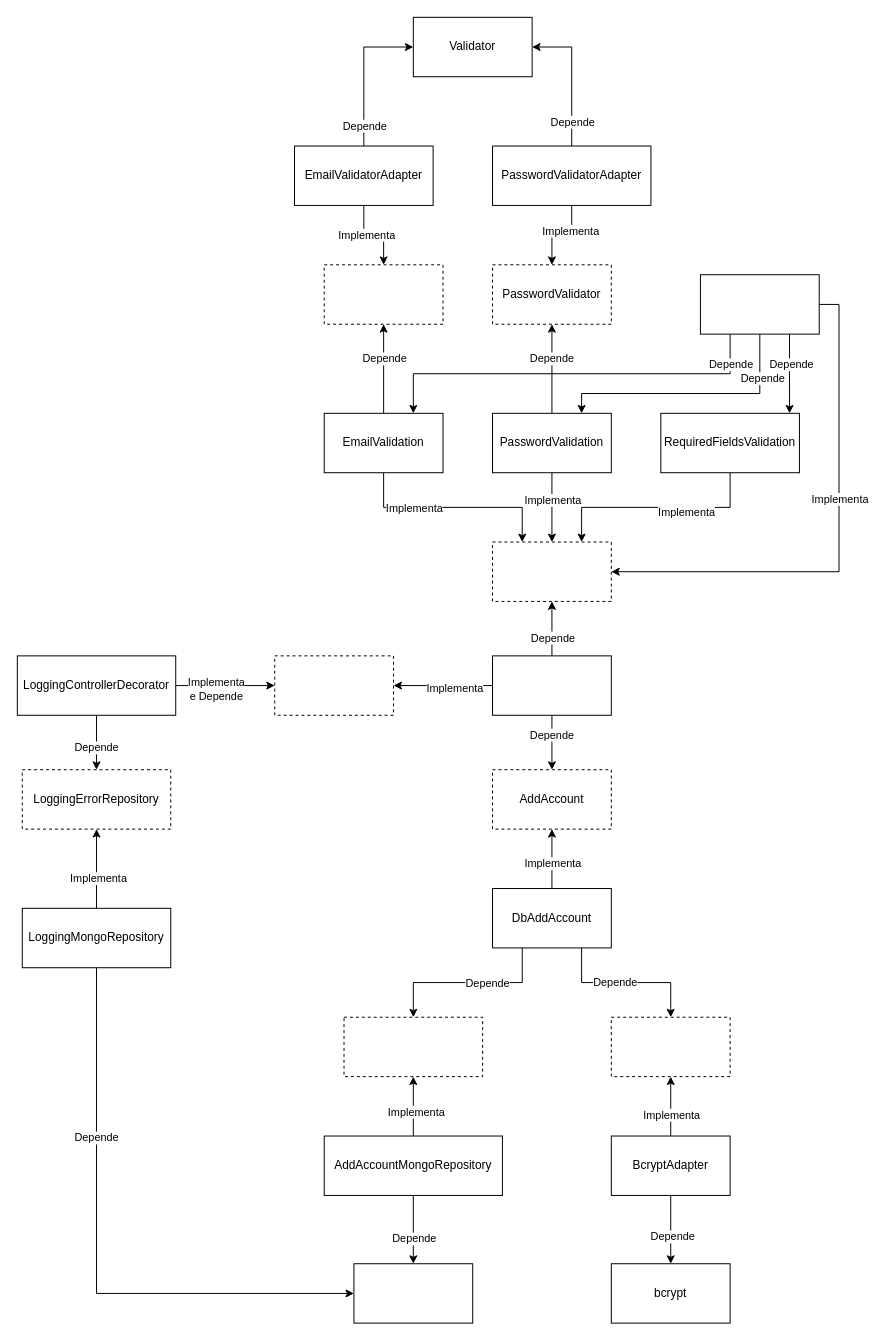
The diagram is 885 pixels wide and 1340 high, and some of its shapes have lost their labels. The shapes that lost their labels are listed below. From the top down, each one's centre as x and y in pixels, then its label:
At pixel 383 294: "EmailValidator".
At pixel 759 304: "ValidationComposite".
At pixel 551 571: "Validation".
At pixel 334 685: "Controller".
At pixel 551 685: "SignUpController".
At pixel 413 1046: "AddAccountRepository".
At pixel 670 1046: "Encrypter".
At pixel 413 1293: "mongodb".
